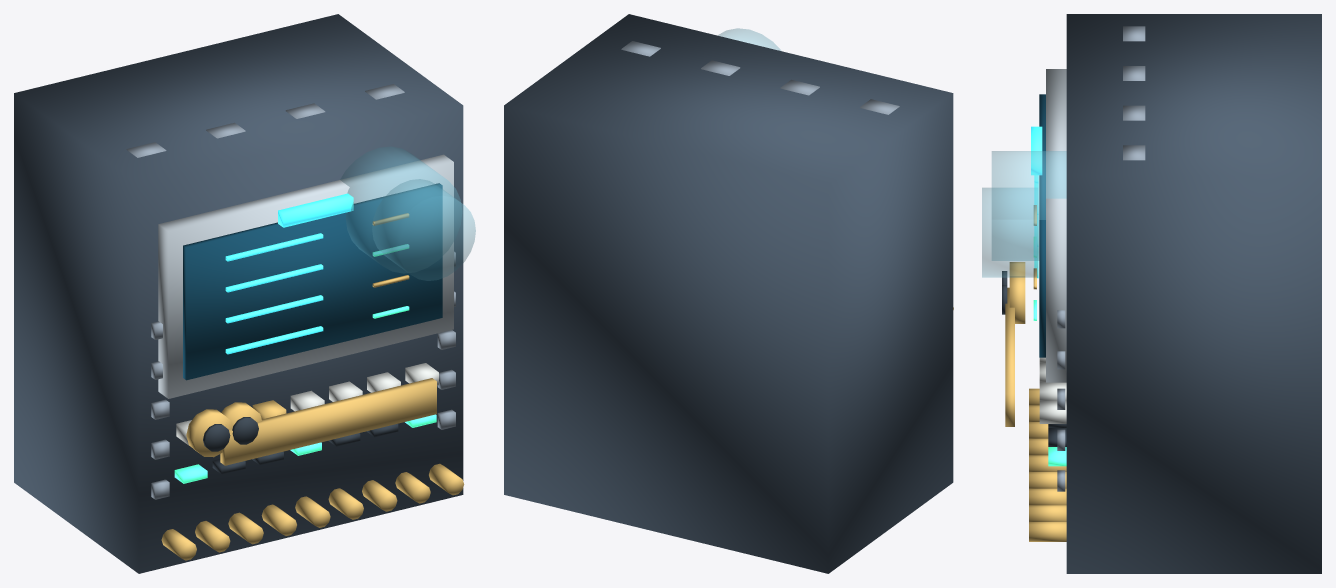
Rendered from 66_L88_CabinPressurePrimaryTransducer.glb.
The picture shows the model from 3 angles, left to right: view 1: azimuth 30°, elevation 25°; view 2: azimuth 150°, elevation 25°; view 3: azimuth 270°, elevation 25°; orthographic projection. The views are drawn at different scales.
Visible parts, largest first — view 1: L87_CabinPressurePrimaryTrans_Part_0000, L87_CabinPressurePrimaryTrans_Part_0002, L87_CabinPressurePrimaryTrans_Part_0001, L87_CabinPressurePrimaryTrans_Part_0009, L87_CabinPressurePrimaryTrans_Part_0011, L87_CabinPressurePrimaryTrans_Part_0004, L87_CabinPressurePrimaryTrans_Part_0008, L87_CabinPressurePrimaryTrans_Part_0003, L87_CabinPressurePrimaryTrans_Part_0006, L87_CabinPressurePrimaryTrans_Part_0010, L87_CabinPressurePrimaryTrans_Part_0005, L87_CabinPressurePrimaryTrans_Part_0012 (+3 smaller); view 2: L87_CabinPressurePrimaryTrans_Part_0000, L87_CabinPressurePrimaryTrans_Part_0008, L87_CabinPressurePrimaryTrans_Part_0009; view 3: L87_CabinPressurePrimaryTrans_Part_0000, L87_CabinPressurePrimaryTrans_Part_0009, L87_CabinPressurePrimaryTrans_Part_0001, L87_CabinPressurePrimaryTrans_Part_0004, L87_CabinPressurePrimaryTrans_Part_0008, L87_CabinPressurePrimaryTrans_Part_0002, L87_CabinPressurePrimaryTrans_Part_0011, L87_CabinPressurePrimaryTrans_Part_0006, L87_CabinPressurePrimaryTrans_Part_0014, L87_CabinPressurePrimaryTrans_Part_0010, L87_CabinPressurePrimaryTrans_Part_0005.
Part boxes in pixels (<box>): L87_CabinPressurePrimaryTrans_Part_0000: <box>14,14,463,573</box>; L87_CabinPressurePrimaryTrans_Part_0002: <box>183,183,442,380</box>; L87_CabinPressurePrimaryTrans_Part_0001: <box>158,154,453,398</box>; L87_CabinPressurePrimaryTrans_Part_0009: <box>340,146,475,280</box>; L87_CabinPressurePrimaryTrans_Part_0011: <box>220,378,436,465</box>; L87_CabinPressurePrimaryTrans_Part_0004: <box>161,213,464,560</box>; L87_CabinPressurePrimaryTrans_Part_0008: <box>126,84,455,499</box>; L87_CabinPressurePrimaryTrans_Part_0003: <box>225,233,323,354</box>; L87_CabinPressurePrimaryTrans_Part_0006: <box>176,363,438,445</box>; L87_CabinPressurePrimaryTrans_Part_0010: <box>278,193,353,227</box>; L87_CabinPressurePrimaryTrans_Part_0005: <box>174,244,436,483</box>; L87_CabinPressurePrimaryTrans_Part_0012: <box>186,409,232,457</box>; L87_CabinPressurePrimaryTrans_Part_0000: <box>504,14,953,573</box>; L87_CabinPressurePrimaryTrans_Part_0008: <box>621,41,899,114</box>; L87_CabinPressurePrimaryTrans_Part_0009: <box>718,28,780,50</box>; L87_CabinPressurePrimaryTrans_Part_0000: <box>1066,14,1321,573</box>; L87_CabinPressurePrimaryTrans_Part_0009: <box>982,151,1066,277</box>; L87_CabinPressurePrimaryTrans_Part_0001: <box>1046,69,1066,382</box>; L87_CabinPressurePrimaryTrans_Part_0004: <box>1029,205,1066,541</box>; L87_CabinPressurePrimaryTrans_Part_0008: <box>1057,26,1145,491</box>; L87_CabinPressurePrimaryTrans_Part_0002: <box>1039,94,1045,357</box>; L87_CabinPressurePrimaryTrans_Part_0011: <box>1005,287,1014,426</box>; L87_CabinPressurePrimaryTrans_Part_0006: <box>1039,357,1066,423</box>; L87_CabinPressurePrimaryTrans_Part_0014: <box>1009,276,1025,323</box>; L87_CabinPressurePrimaryTrans_Part_0010: <box>1031,126,1042,175</box>; L87_CabinPressurePrimaryTrans_Part_0005: <box>1033,237,1066,466</box>.
Size of the model in its own units: 1.04 by 1.2 by 0.9231.
